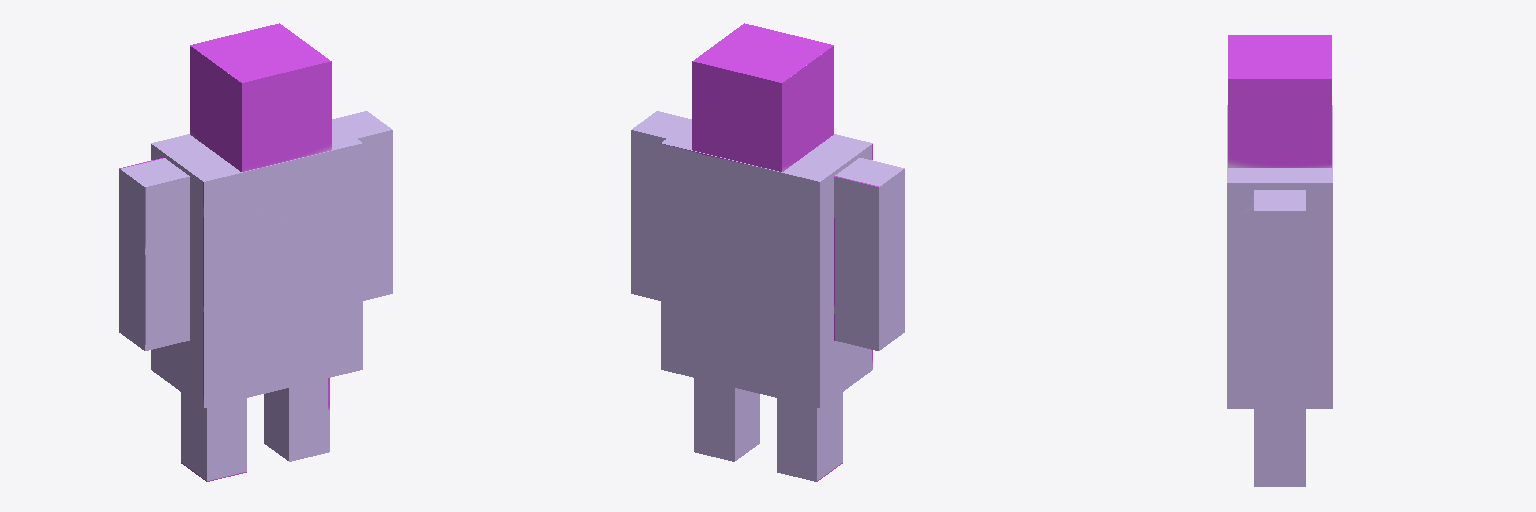
3 renders of one model, left to right at view 1: azimuth 30°, elevation 25°; view 2: azimuth 150°, elevation 25°; view 3: azimuth 270°, elevation 25°, orthographic.
Parts seen in each view (by area): view 1: cube.005_立方体.007; view 2: cube.005_立方体.007; view 3: cube.005_立方体.007.
Boxes of the visible parts, <box> form: cube.005_立方体.007: <box>119,23,392,481</box>; cube.005_立方体.007: <box>631,23,904,481</box>; cube.005_立方体.007: <box>1227,35,1332,486</box>.
Bounding box in the file's own units: 0.5512 × 0.8571 × 0.2037.
Materials: 1 (1 with a texture image).